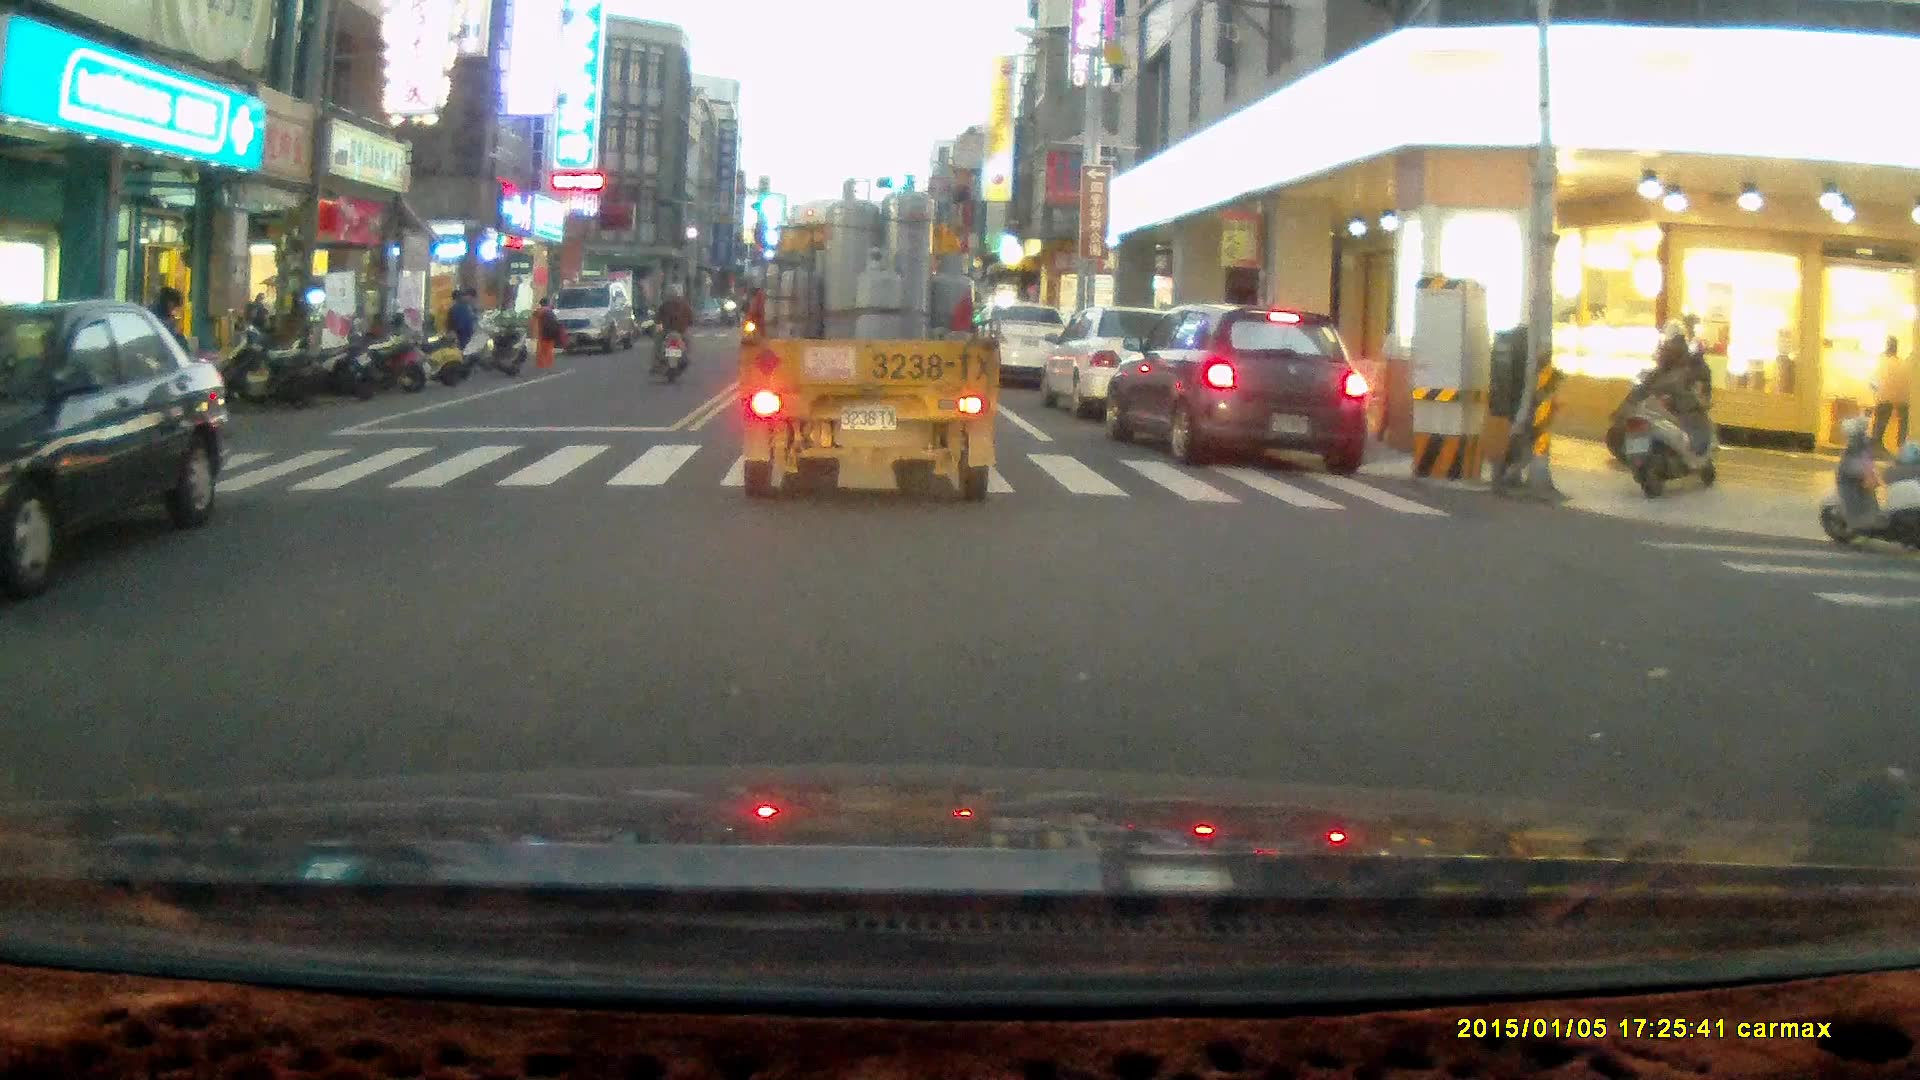pedestrian: (444, 283, 480, 370), (528, 293, 565, 368)
rider: (1603, 316, 1713, 471), (646, 278, 694, 384)
vehicle: (738, 171, 1000, 506), (1, 298, 227, 609), (1109, 303, 1369, 474), (1050, 305, 1217, 421), (974, 301, 1078, 391), (544, 283, 640, 356)
